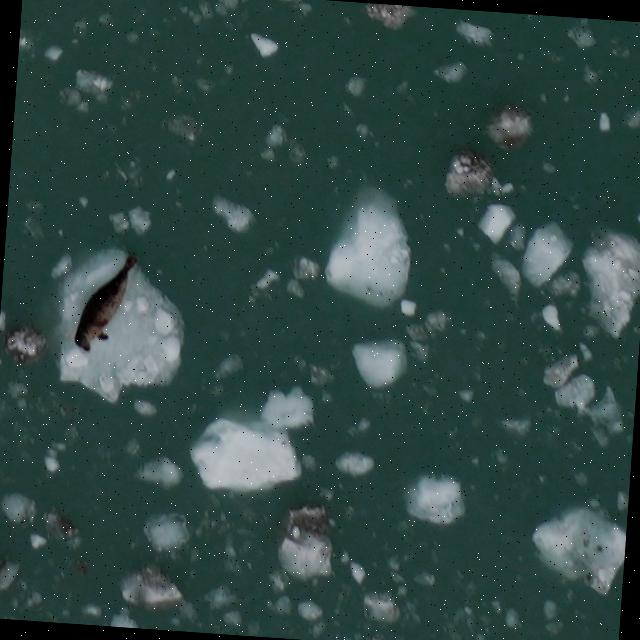seal: (70, 248, 141, 358)
